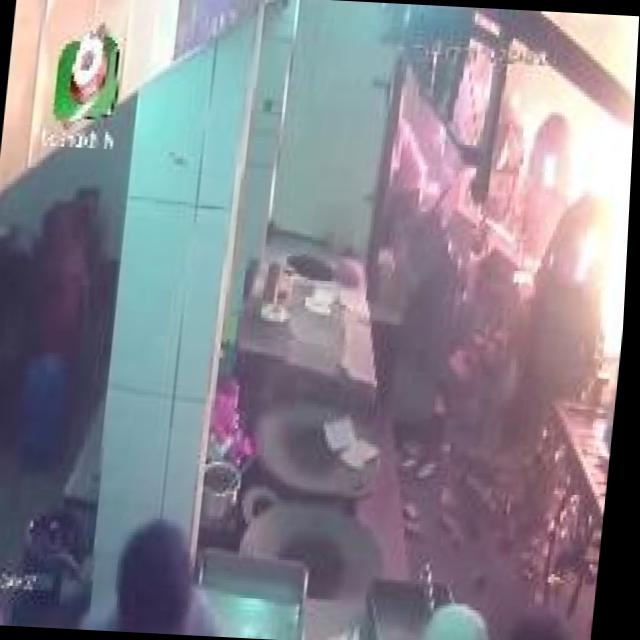fire: (486, 13, 639, 371)
